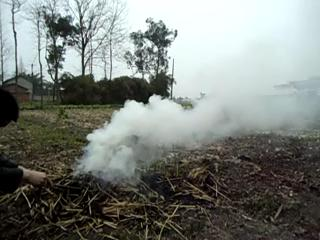yanwu: (79, 70, 299, 178)
